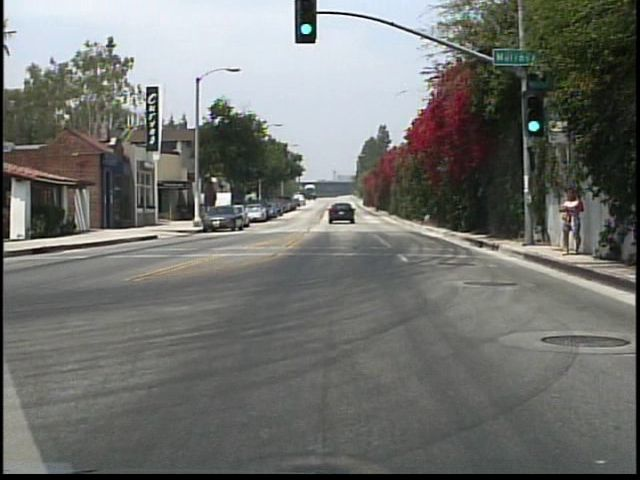person: (556, 188, 588, 257)
